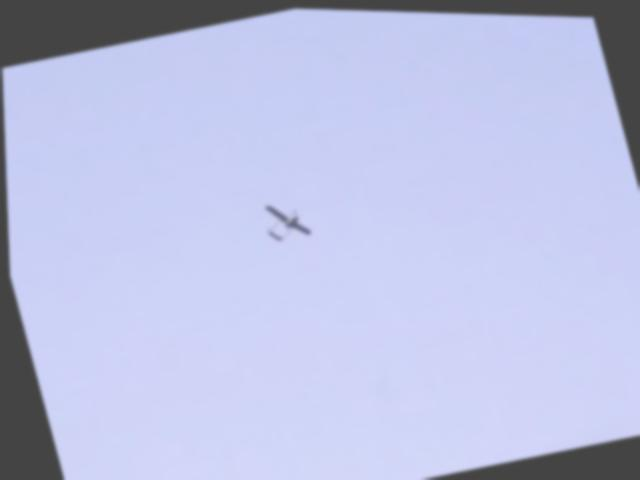uav: (255, 190, 315, 248)
